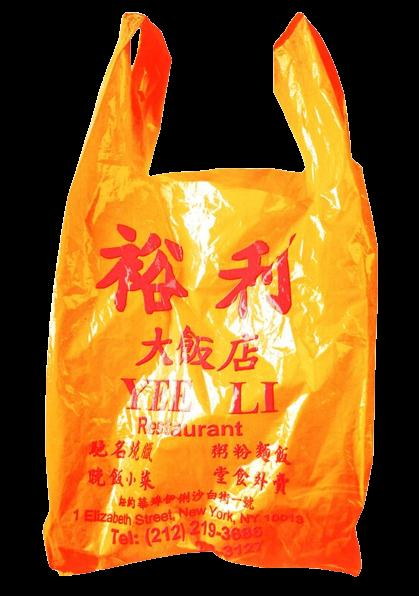Plastik: (38, 0, 383, 582)
